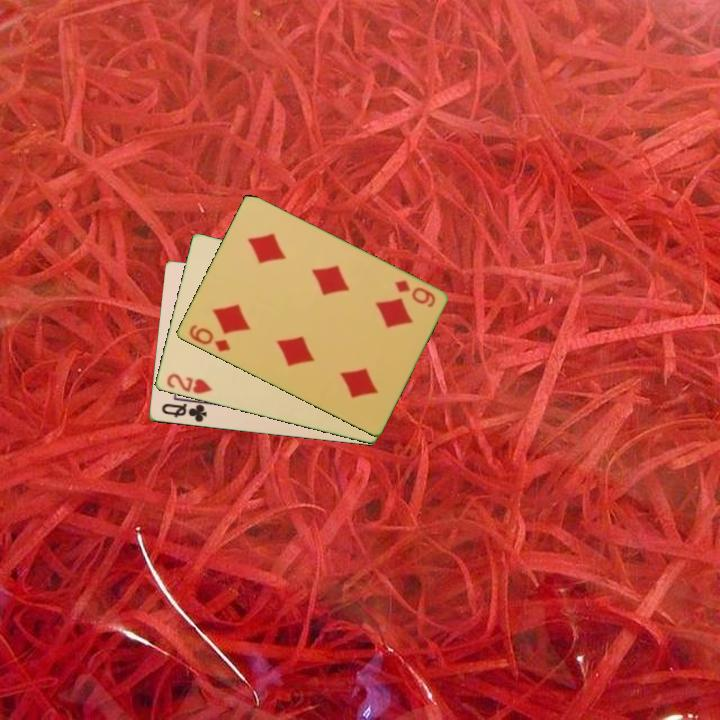2h: (163, 370, 214, 397)
6d: (185, 321, 233, 355), (390, 277, 438, 310)
Qc: (158, 397, 212, 425)
